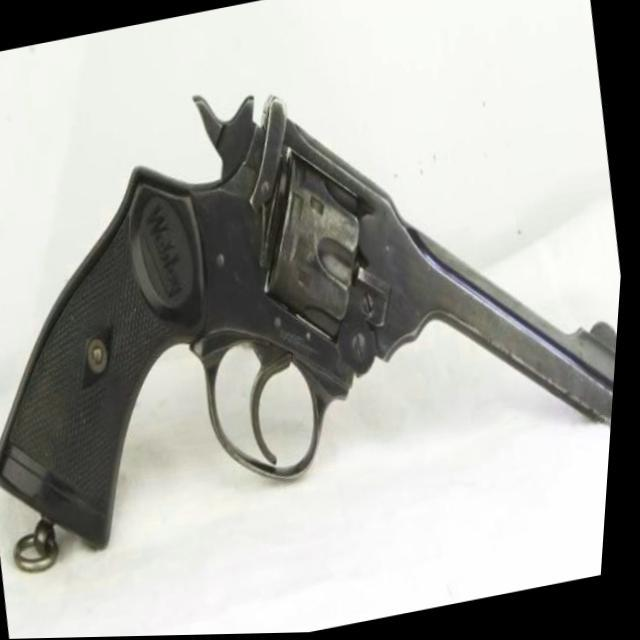weapon: (0, 17, 639, 578)
